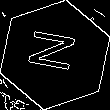N_E: (25, 30, 85, 80)
